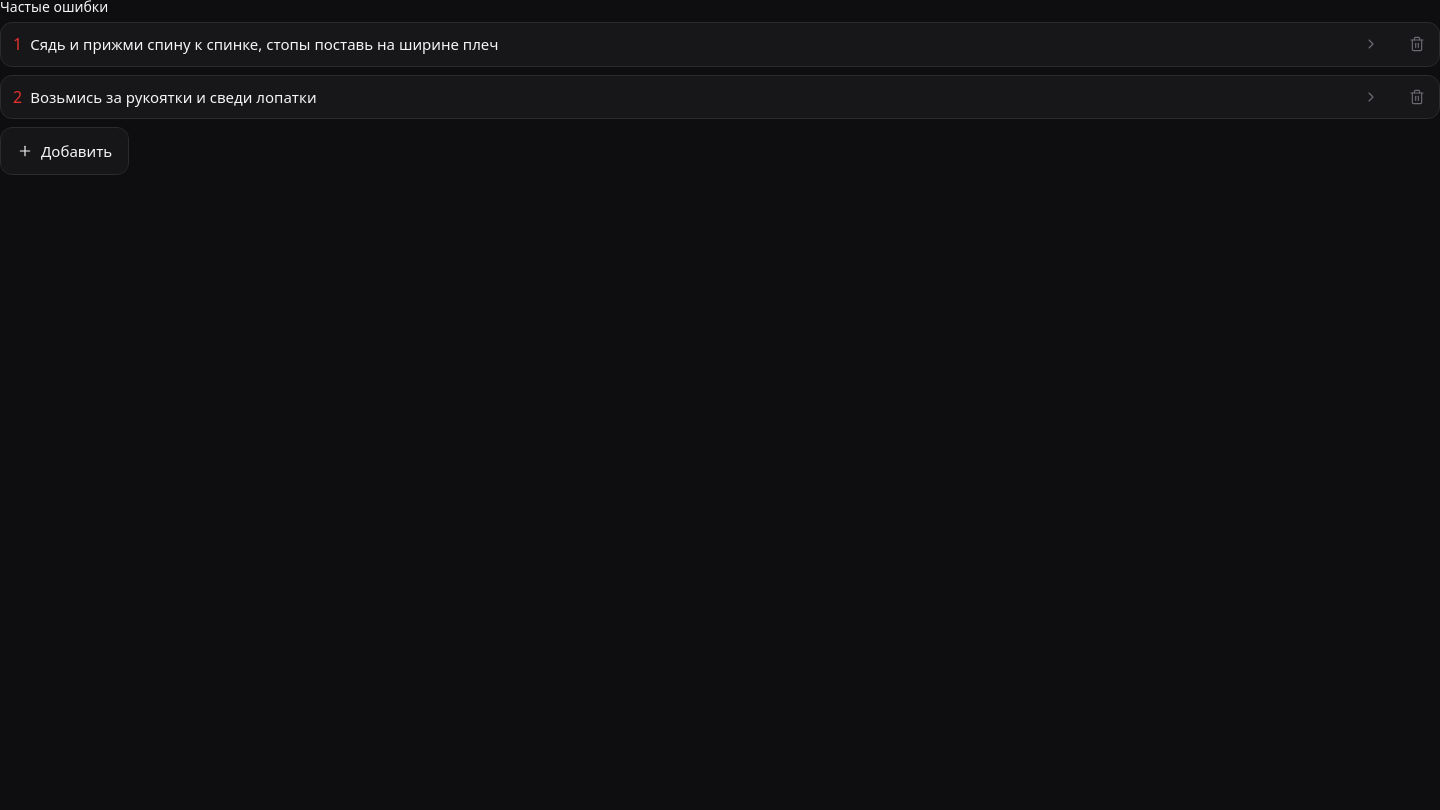
Test: «Добавить» сразу открывает окно для нового пункта
Click the button "Добавить" at (65, 151), box [0,127,129,175]
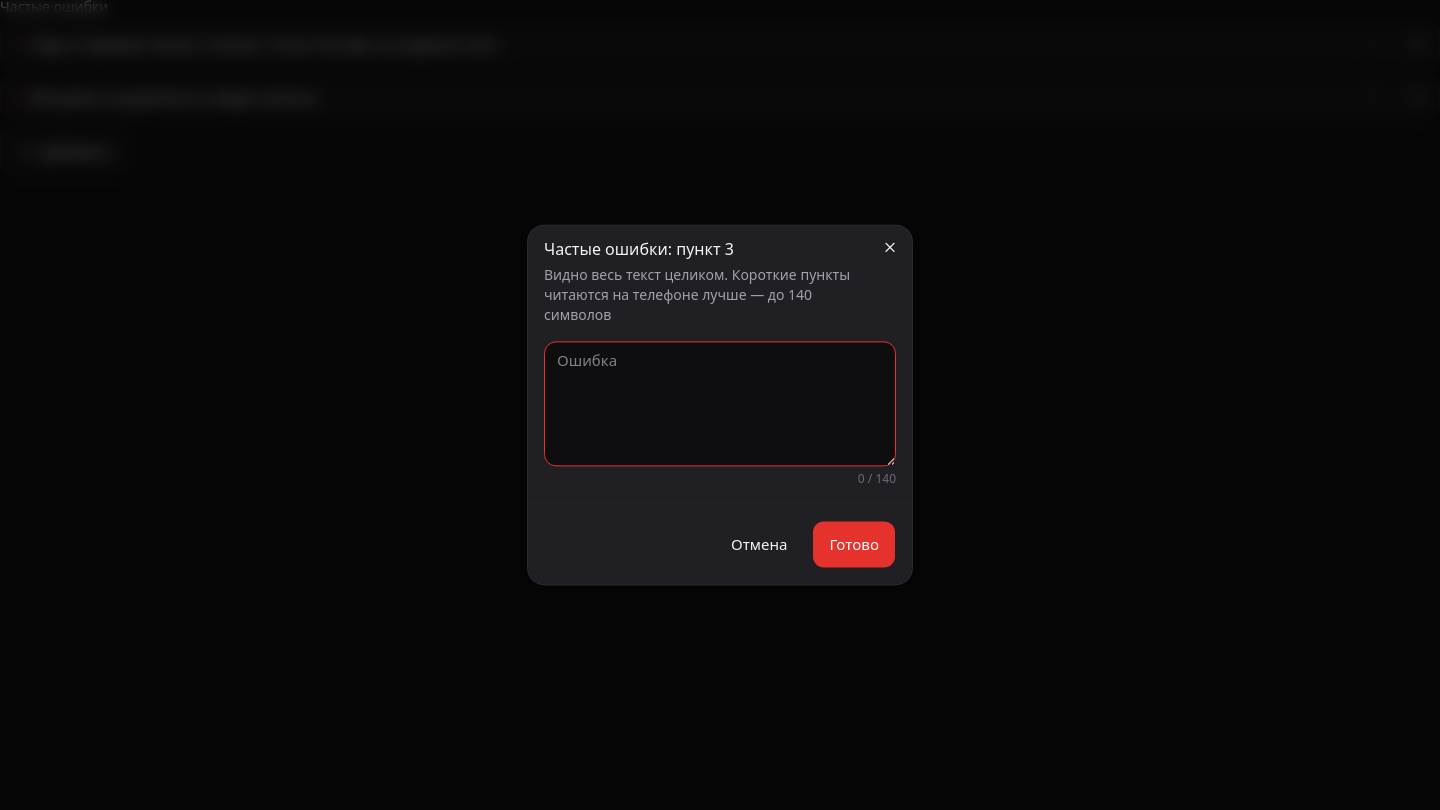
Expected: the dialog shows "Частые ошибки: пункт 3", [528,225,912,585]
Expected: the text box named "Текст пункта 3" is empty, [544,341,896,466]
